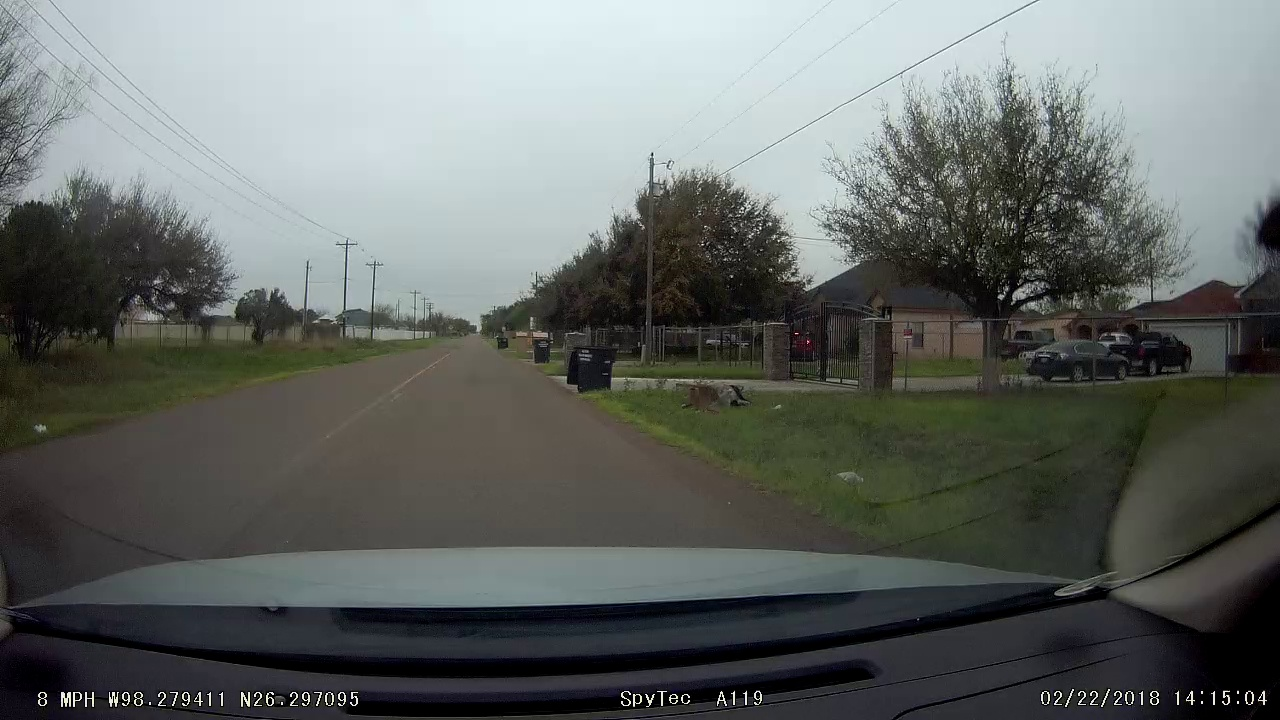blurredLine: (261, 403, 398, 509)
